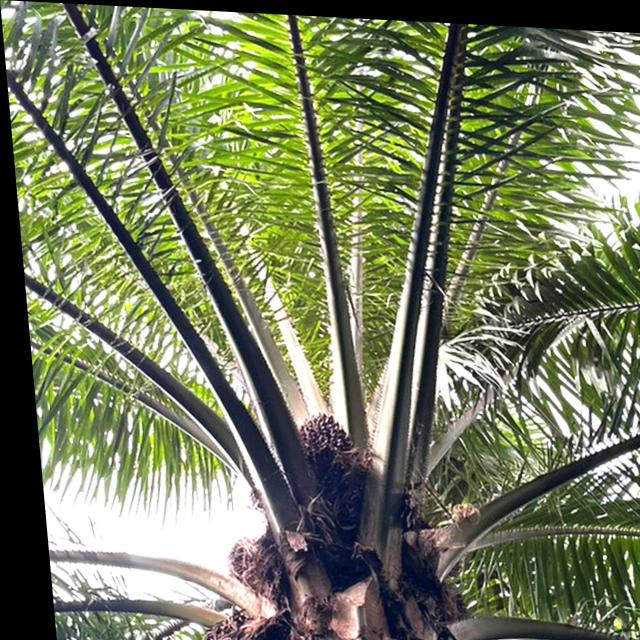ripe: (284, 395, 356, 479)
